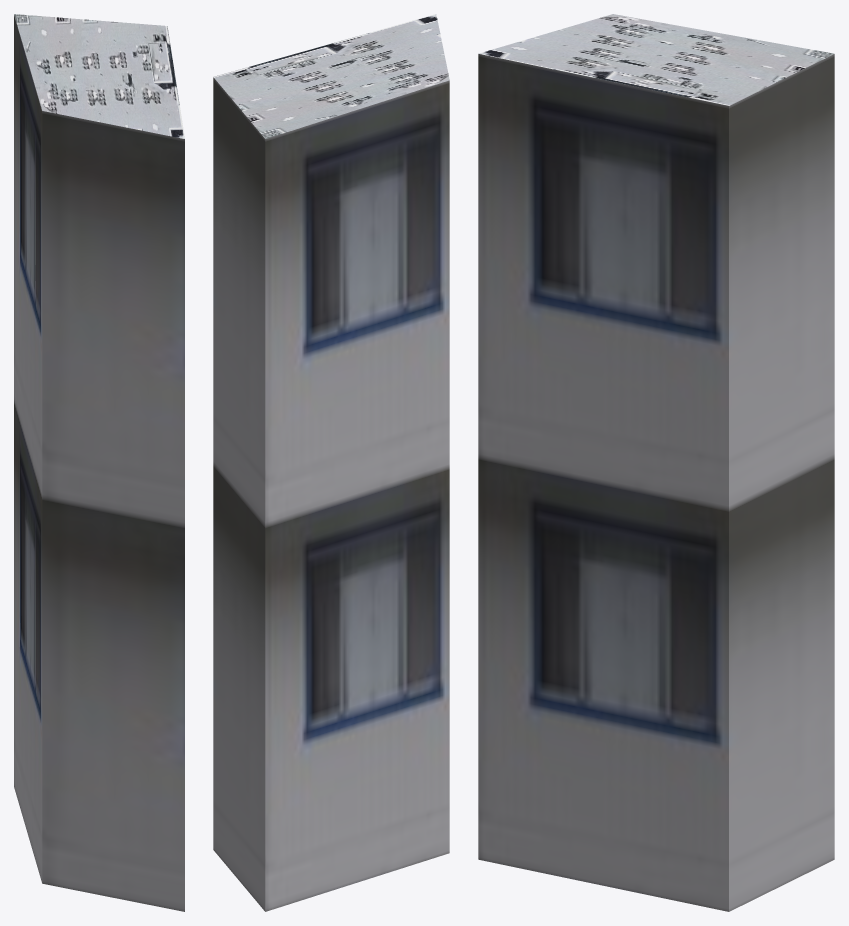
Rendered from ResTex__5070.fbx.
3 renders of one model, left to right at view 1: azimuth 30°, elevation 25°; view 2: azimuth 150°, elevation 25°; view 3: azimuth 270°, elevation 25°, orthographic. The views are drawn at different scales.
Visible parts, largest first — view 1: CityEngineMaterial_9_m, CityEngineMaterial_4_m; view 2: CityEngineMaterial_9_m, CityEngineMaterial_4_m; view 3: CityEngineMaterial_9_m, CityEngineMaterial_4_m.
Boxes of the visible parts, box(x1,y1,x2,y2) form: CityEngineMaterial_9_m: box(14, 15, 184, 911); CityEngineMaterial_4_m: box(14, 14, 184, 138); CityEngineMaterial_9_m: box(213, 77, 449, 911); CityEngineMaterial_4_m: box(213, 14, 449, 138); CityEngineMaterial_9_m: box(478, 54, 834, 911); CityEngineMaterial_4_m: box(479, 14, 834, 105).
Bounding box in the file's own units: 1.47 × 6 × 2.41.
2 materials, 2 textured.
